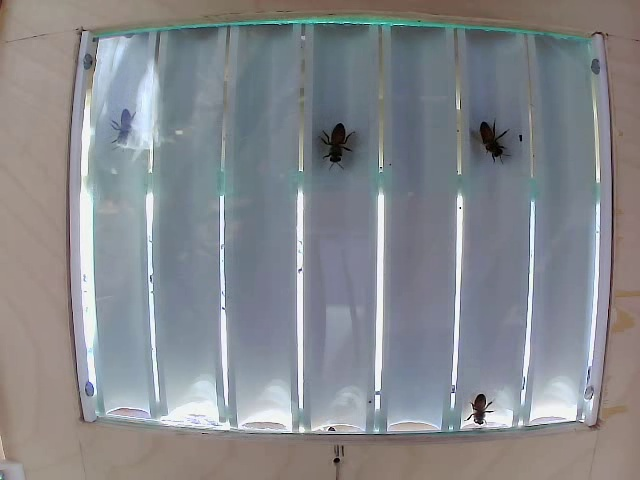bee: (316, 110, 364, 169), (483, 110, 510, 179), (116, 103, 151, 149), (469, 386, 508, 421)
